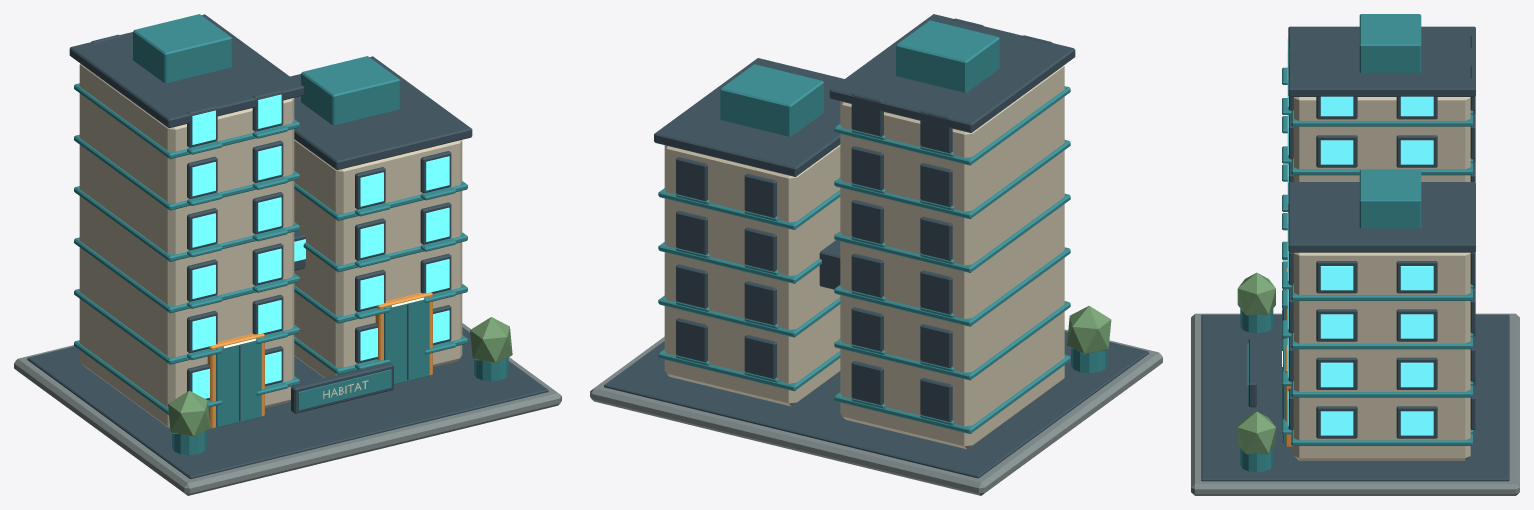
The model's file is tower.glb.
3 renders of one model, left to right at view 1: azimuth 30°, elevation 25°; view 2: azimuth 150°, elevation 25°; view 3: azimuth 270°, elevation 25°, orthographic. The views are drawn at different scales.
Visible parts, largest first — view 1: tower; view 2: tower; view 3: tower.
Part boxes in pixels (x1,y1,x2,y2): tower: [14, 14, 561, 495]; tower: [590, 14, 1162, 495]; tower: [1191, 14, 1519, 495].
Size of the model in its own units: 10 by 9.18 by 8.
